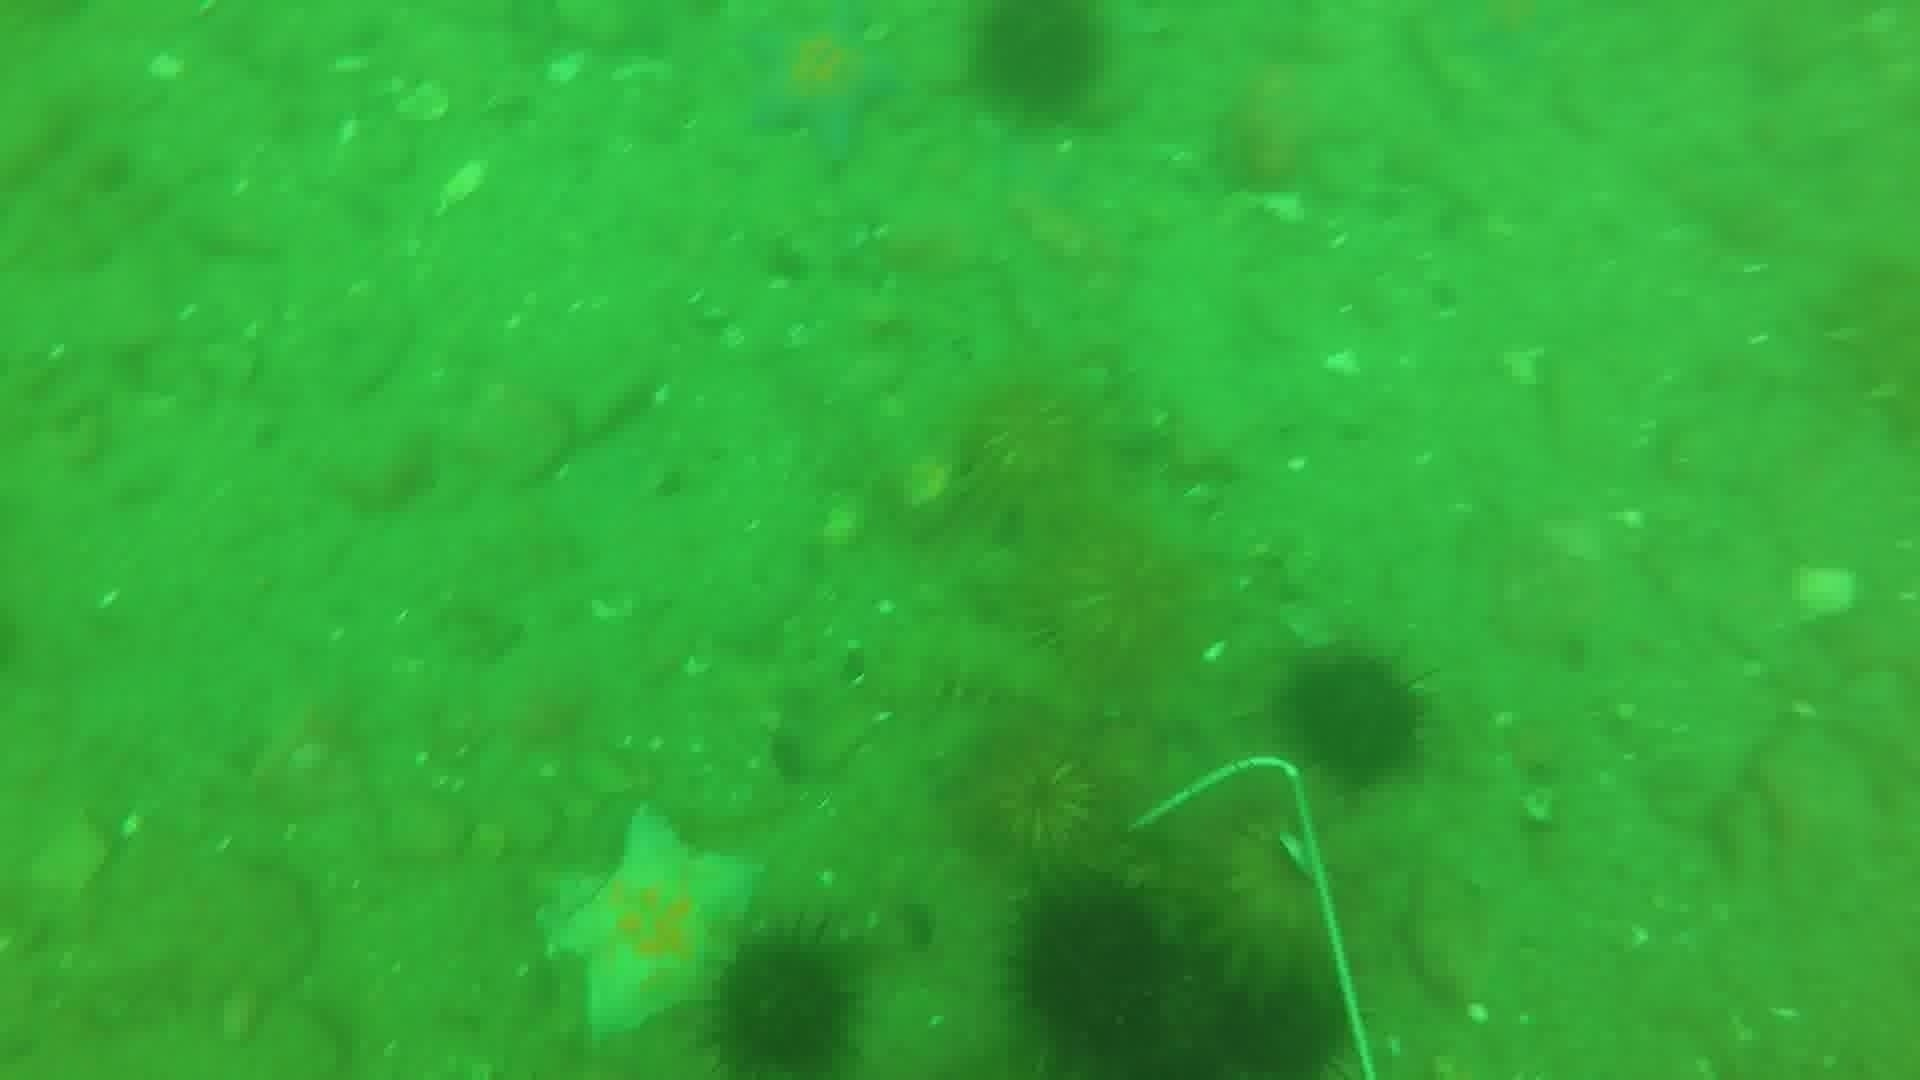echinus: (1163, 808, 1396, 1015), (1004, 498, 1215, 702), (1004, 876, 1180, 1067), (940, 363, 1116, 531), (943, 716, 1112, 868), (702, 924, 864, 1075), (1274, 646, 1432, 789), (967, 4, 1112, 124)
holothurian: (868, 616, 1096, 725), (1817, 247, 1920, 448)
scallop: (392, 79, 454, 128)
starfish: (539, 807, 764, 1044), (1195, 50, 1371, 199), (738, 13, 909, 166), (1408, 3, 1582, 88)
